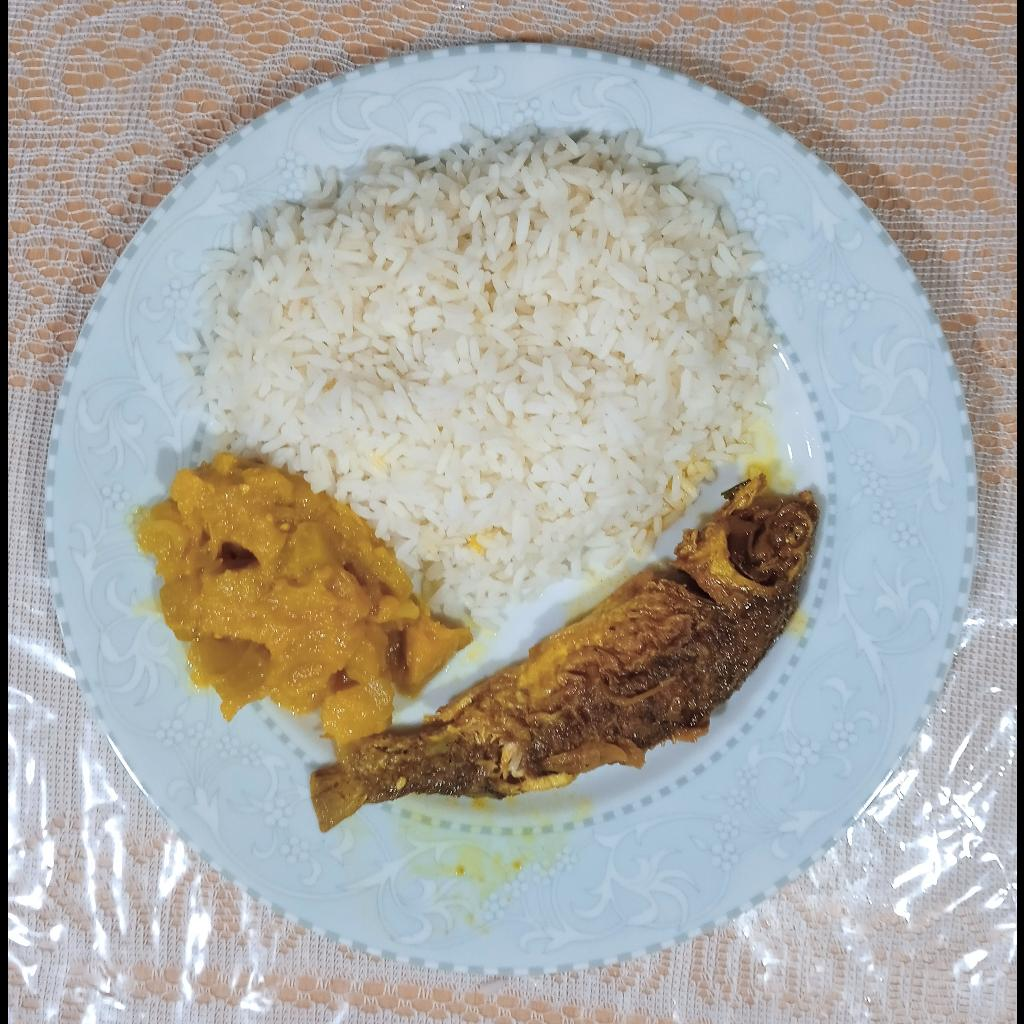fish: (308, 468, 820, 832)
kumra-vaji: (130, 453, 473, 747)
rice: (182, 120, 778, 629)
